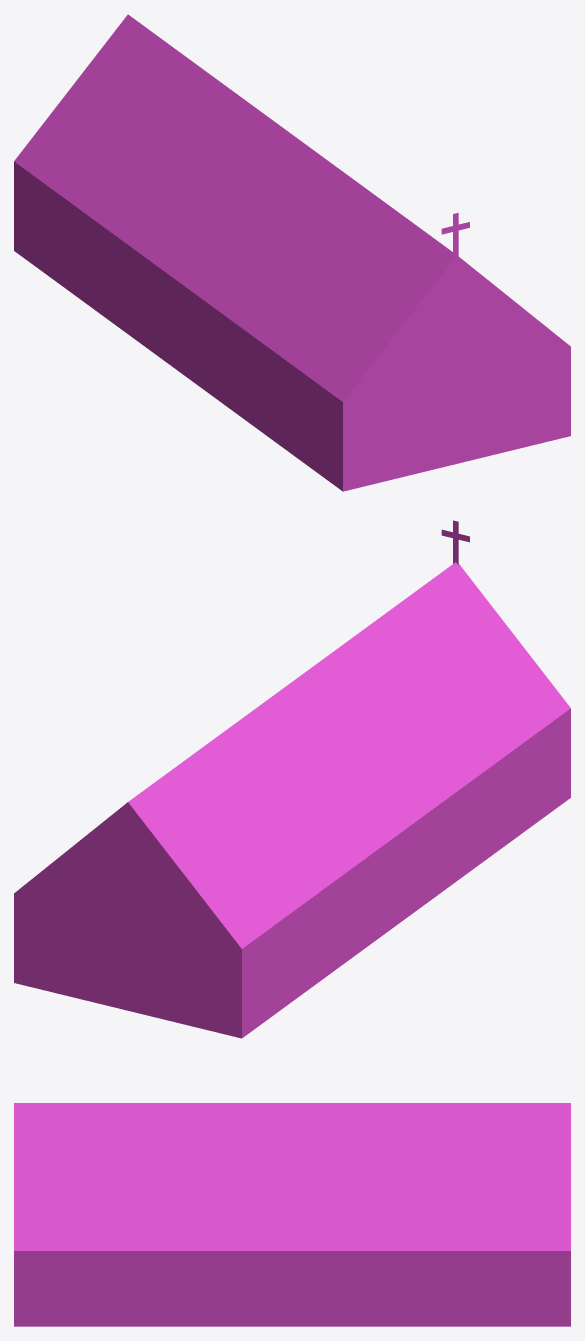
File: ChurchSmall.glb
3 views of the same model, one above another, from view 1: azimuth 30°, elevation 25°; view 2: azimuth 150°, elevation 25°; view 3: azimuth 270°, elevation 25° (orthographic). The views are drawn at different scales.
Parts seen in each view (by area): view 1: Church; view 2: Church; view 3: Church.
Boxes of the visible parts, bbox=[...] form: Church: bbox=[14, 14, 570, 491]; Church: bbox=[14, 520, 570, 1038]; Church: bbox=[14, 1103, 570, 1326].
Size of the model in its own units: 8 by 8.37 by 20.
